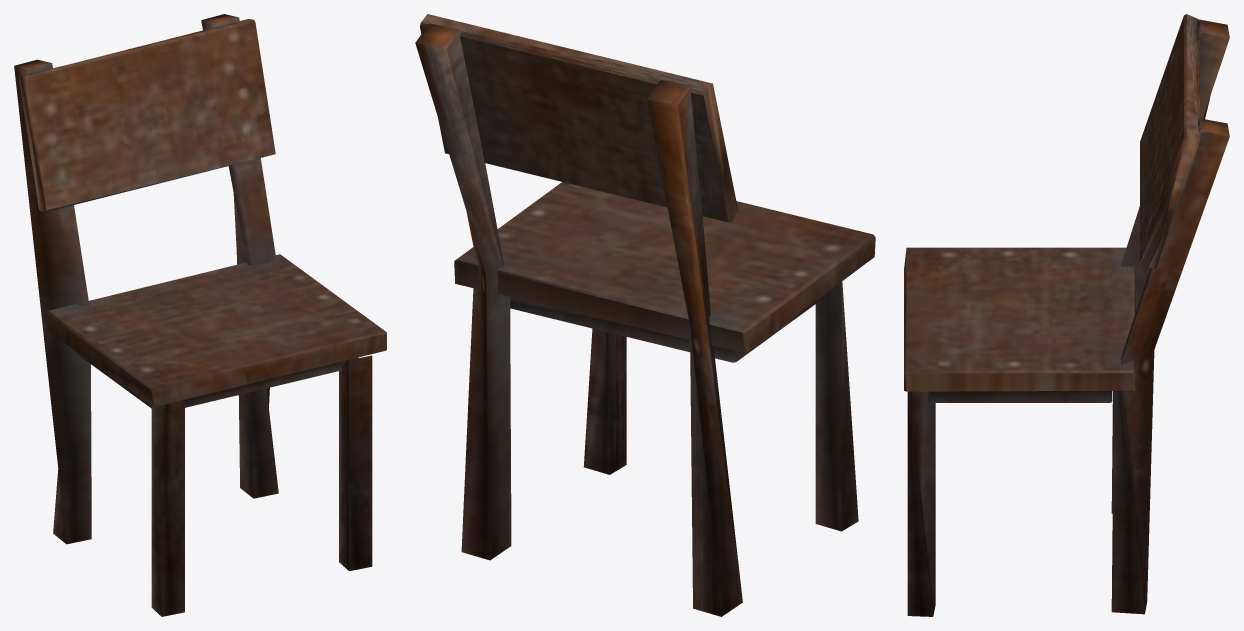
3 renders of one model, left to right at view 1: azimuth 30°, elevation 25°; view 2: azimuth 150°, elevation 25°; view 3: azimuth 270°, elevation 25°, orthographic. The views are drawn at different scales.
Parts seen in each view (by area): view 1: chair; view 2: chair; view 3: chair.
Part boxes in pixels (x1,y1,x2,y2): chair: (14, 14, 386, 616); chair: (415, 14, 875, 616); chair: (904, 14, 1229, 616).
Bounding box in the file's own units: 0.4901 × 0.8938 × 0.5421.
1 material, 1 textured.
